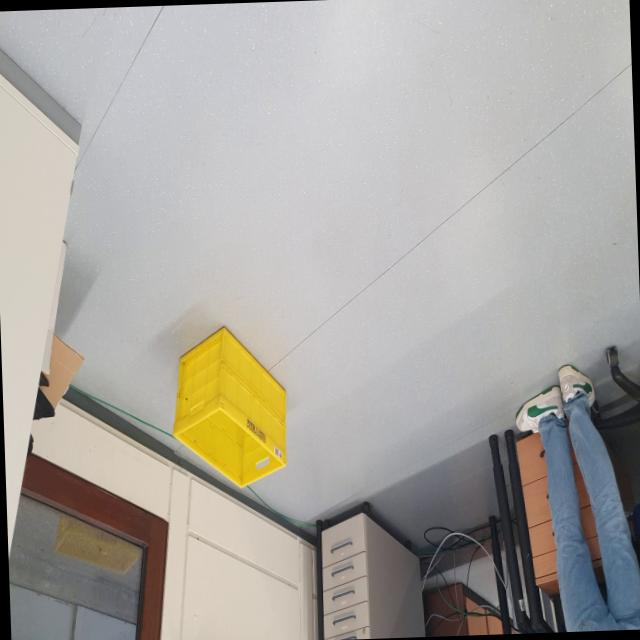box: (162, 312, 300, 503)
